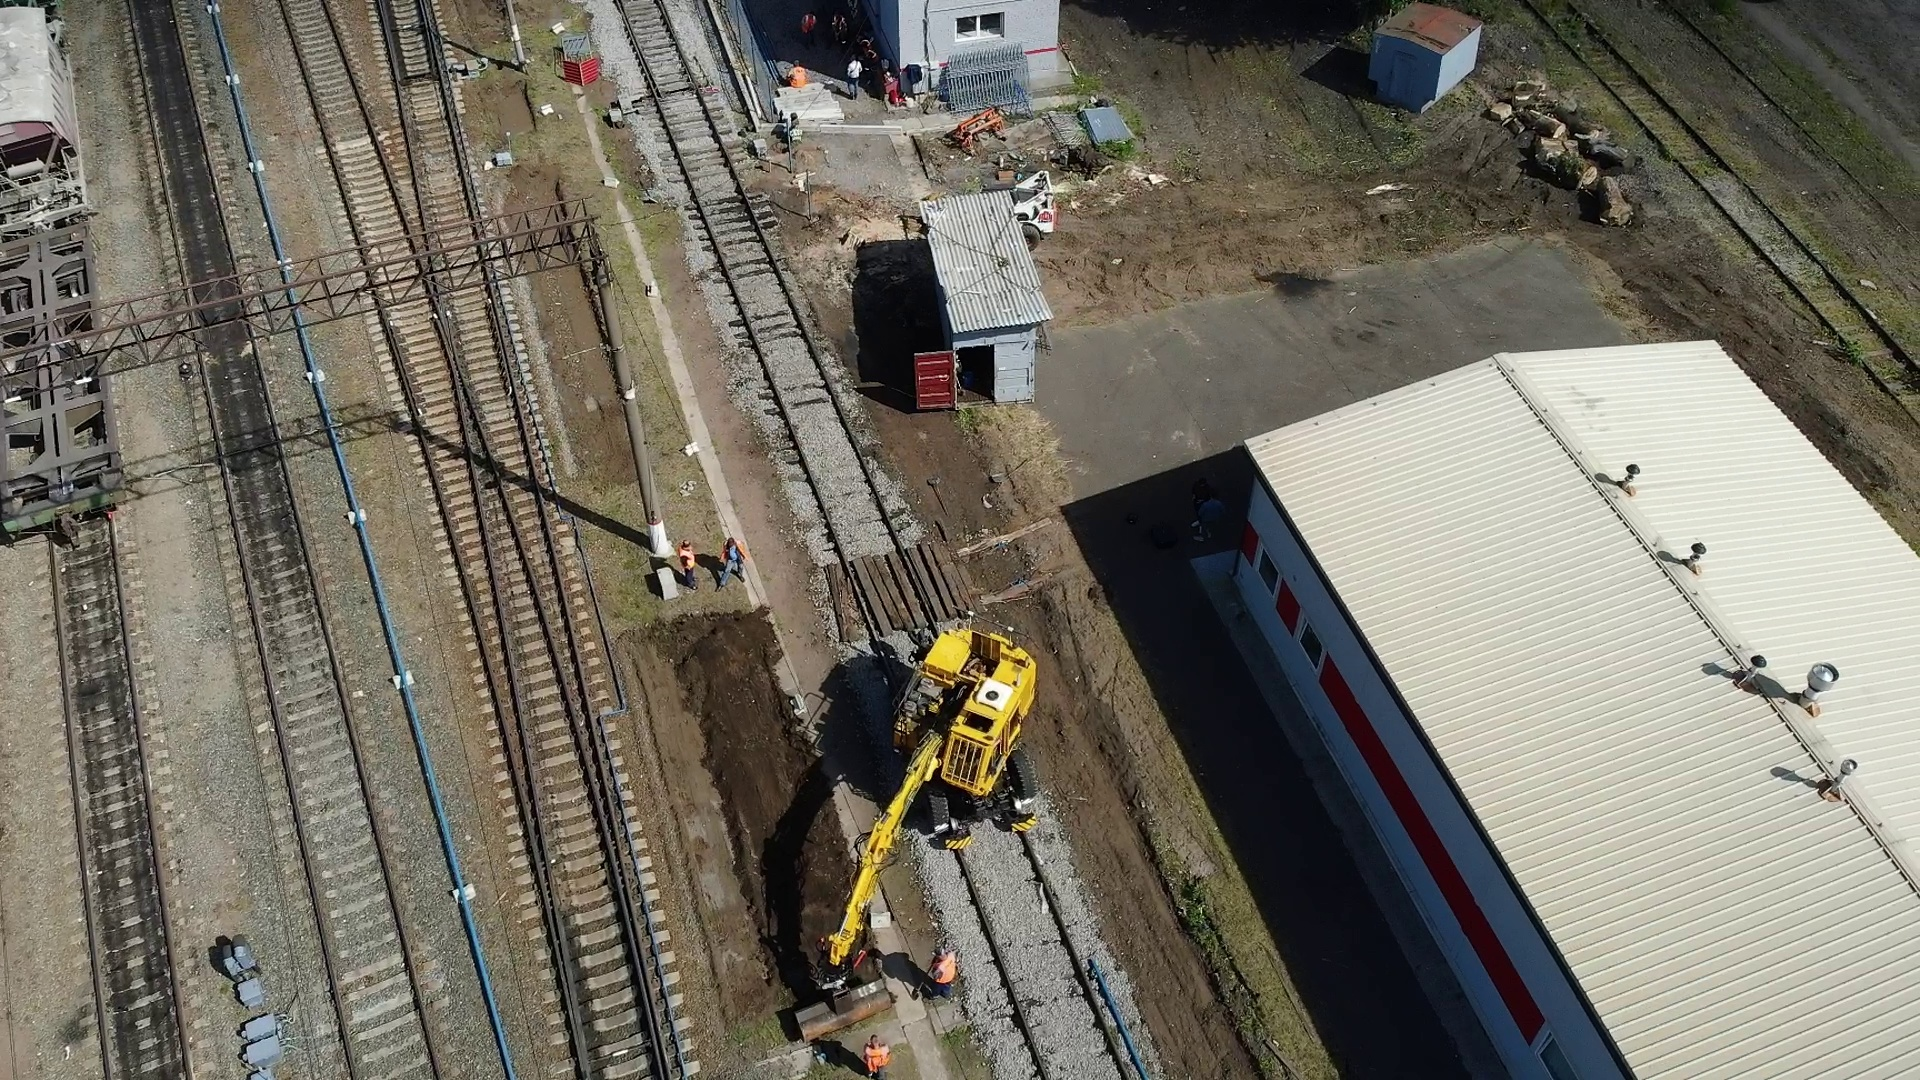kjtv: (873, 623, 1034, 859)
